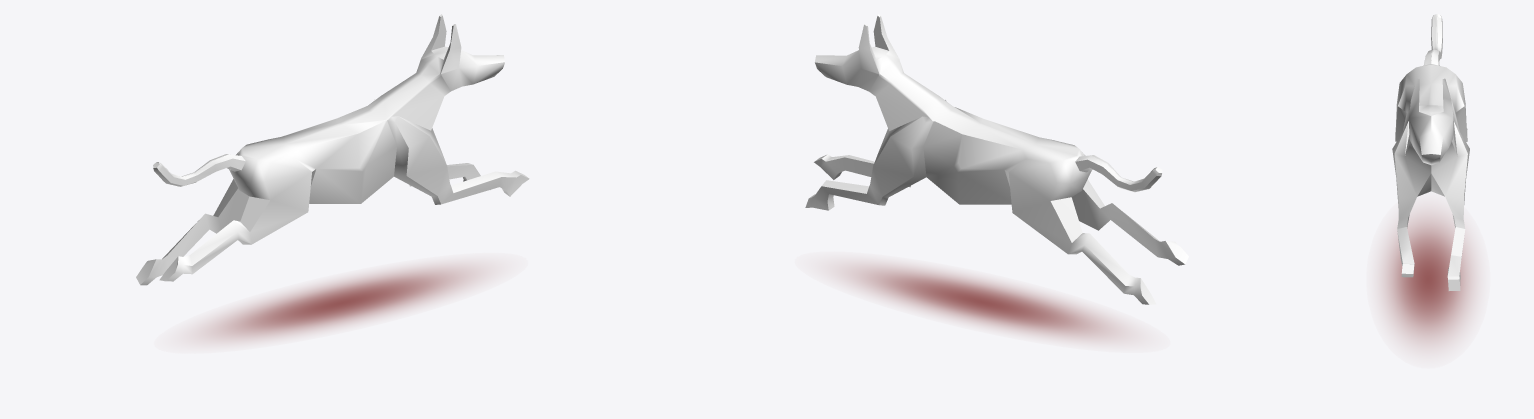
The model's file is asset.gltf.
3 renders of one model, left to right at view 1: azimuth 30°, elevation 25°; view 2: azimuth 150°, elevation 25°; view 3: azimuth 270°, elevation 25°, orthographic.
Visible parts, largest first — view 1: Cube, shadow; view 2: Cube, shadow; view 3: Cube, shadow.
Boxes of the visible parts, <box> form: Cube: <box>136,14,529,285</box>; shadow: <box>194,263,487,342</box>; Cube: <box>805,14,1188,304</box>; shadow: <box>835,262,1130,341</box>; Cube: <box>1392,14,1469,290</box>; shadow: <box>1379,209,1476,349</box>.
Bounding box in the file's own units: 14.1 × 6.39 × 4.14.
Materials: 2 (1 with a texture image).
